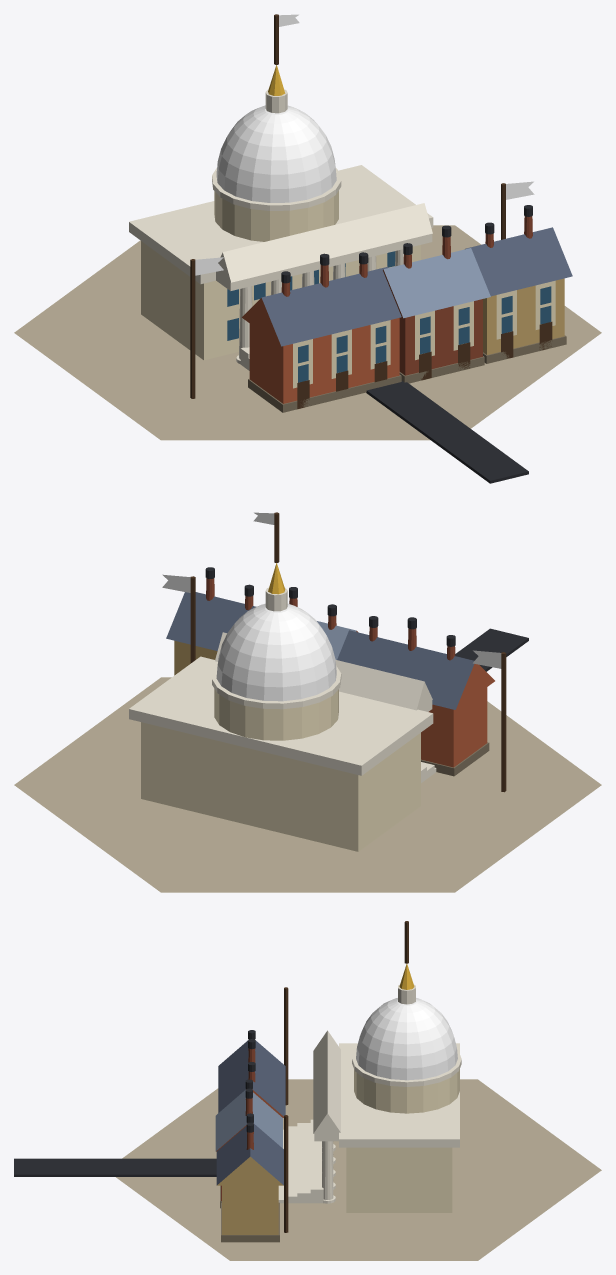
The model's file is capital_2_1.fbx.
The picture shows the model from 3 angles, top to bottom: view 1: azimuth 30°, elevation 25°; view 2: azimuth 150°, elevation 25°; view 3: azimuth 270°, elevation 25°; orthographic projection. The views are drawn at different scales.
Visible parts, largest first — view 1: capital_2_1; view 2: capital_2_1; view 3: capital_2_1.
Boxes of the visible parts, x1=… form: capital_2_1: x1=14, y1=14, x2=601, y2=483; capital_2_1: x1=14, y1=512, x2=601, y2=892; capital_2_1: x1=14, y1=921, x2=601, y2=1260.
Size of the model in its own units: 182 by 116 by 249.
